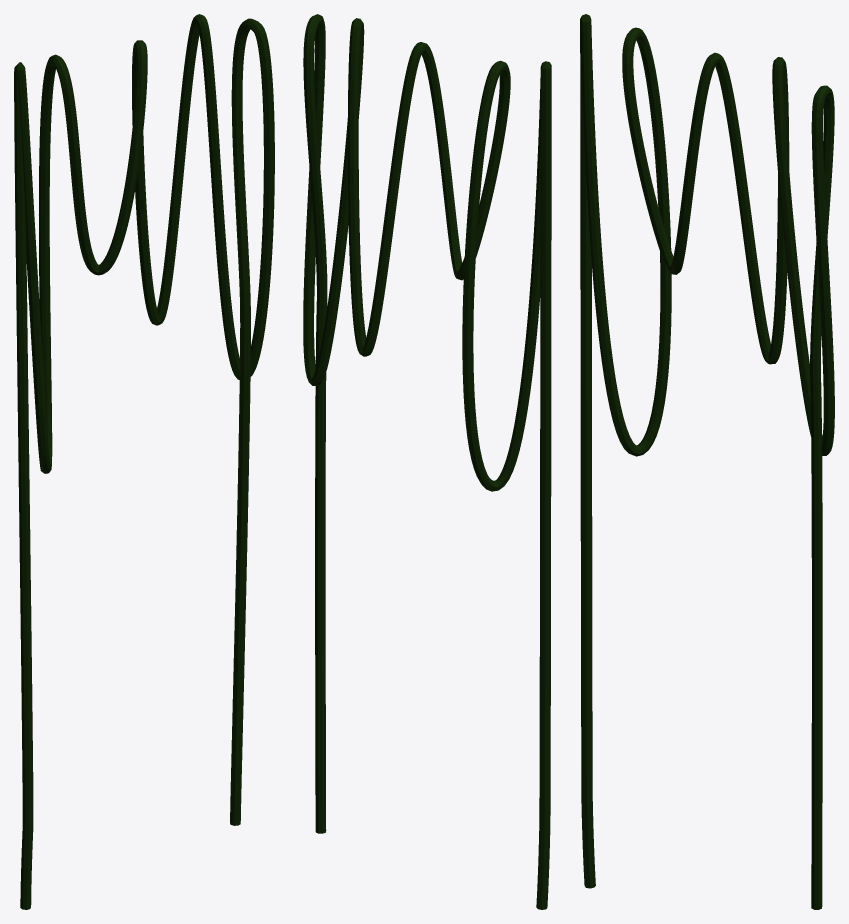
Rendered from Pnącze5.fbx.
3 views of the same model, side by side, from view 1: azimuth 30°, elevation 25°; view 2: azimuth 150°, elevation 25°; view 3: azimuth 330°, elevation 25° (orthographic). The views are drawn at different scales.
Parts seen in each view (by area): view 1: BezierCurve.007; view 2: BezierCurve.007; view 3: BezierCurve.007.
Part boxes in pixels (x1,y1,x2,y2): BezierCurve.007: (14,14,274,909); BezierCurve.007: (303,14,551,909); BezierCurve.007: (580,14,834,909).
Size of the model in its own units: 2.47 by 7.98 by 0.7318.
